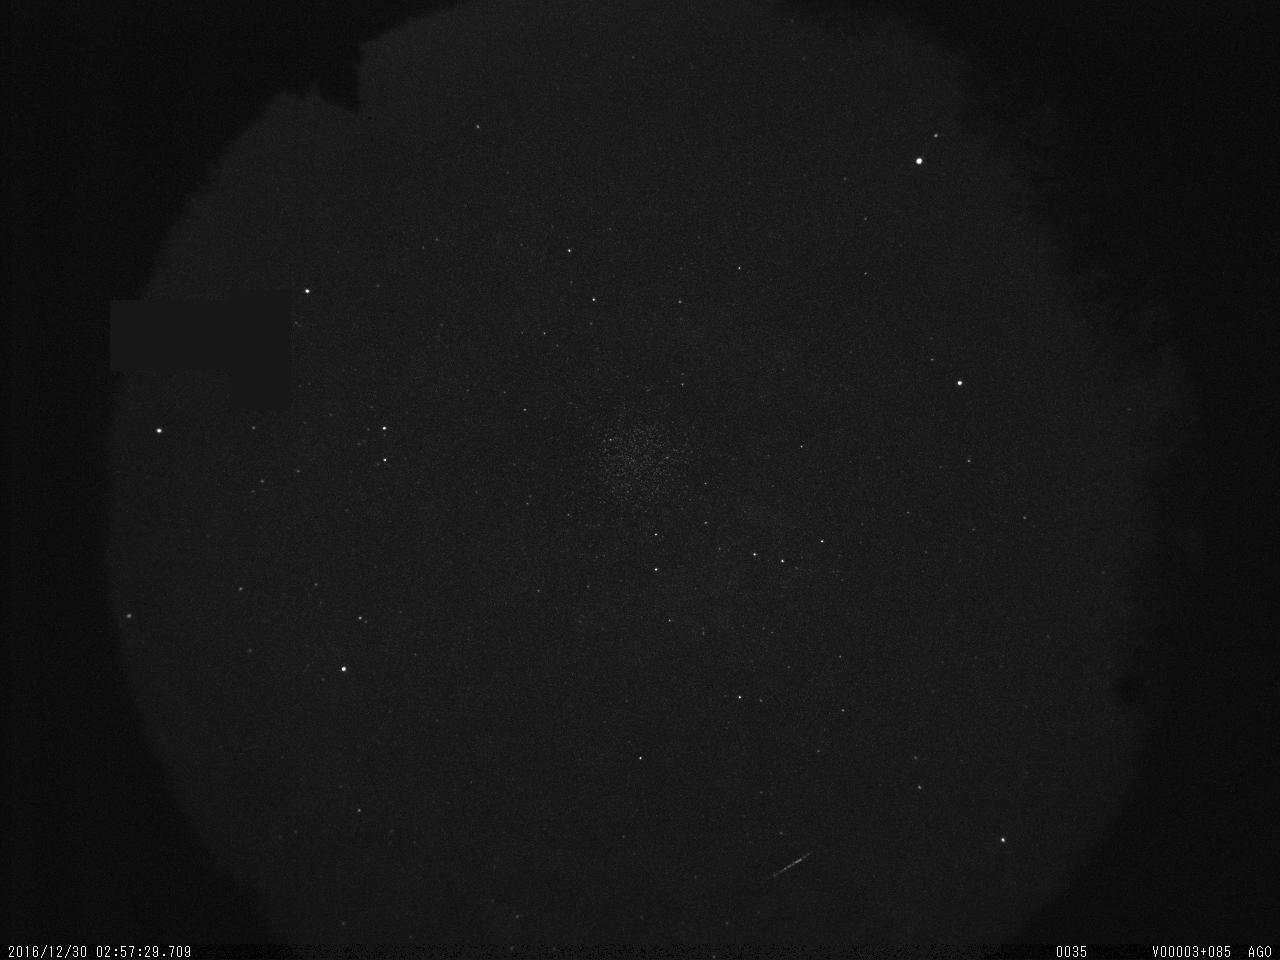meteor: (767, 841, 822, 880)
